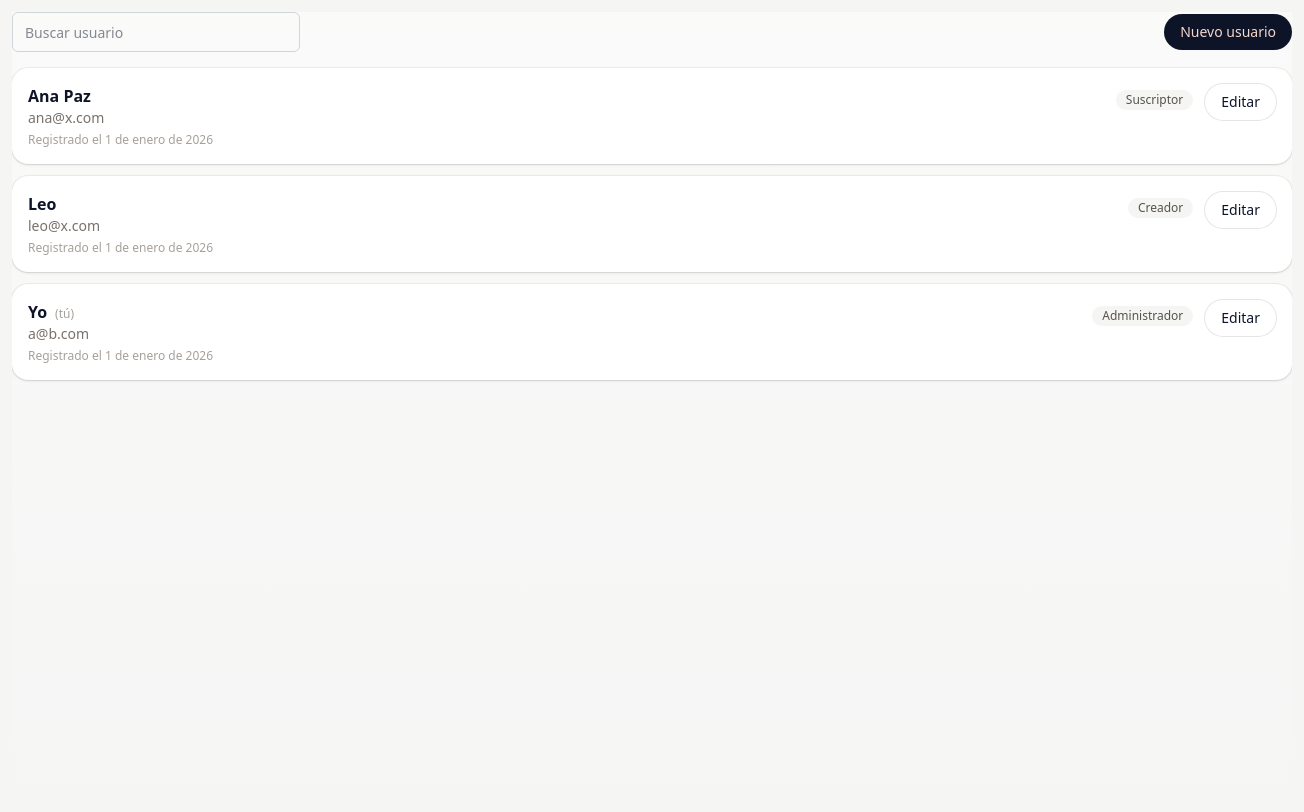
Test: UsersSection new user › opens the form from the button, and reloads the list once the user is created
Click the button "Nuevo usuario" at (1228, 32), box [1164,14,1292,50]
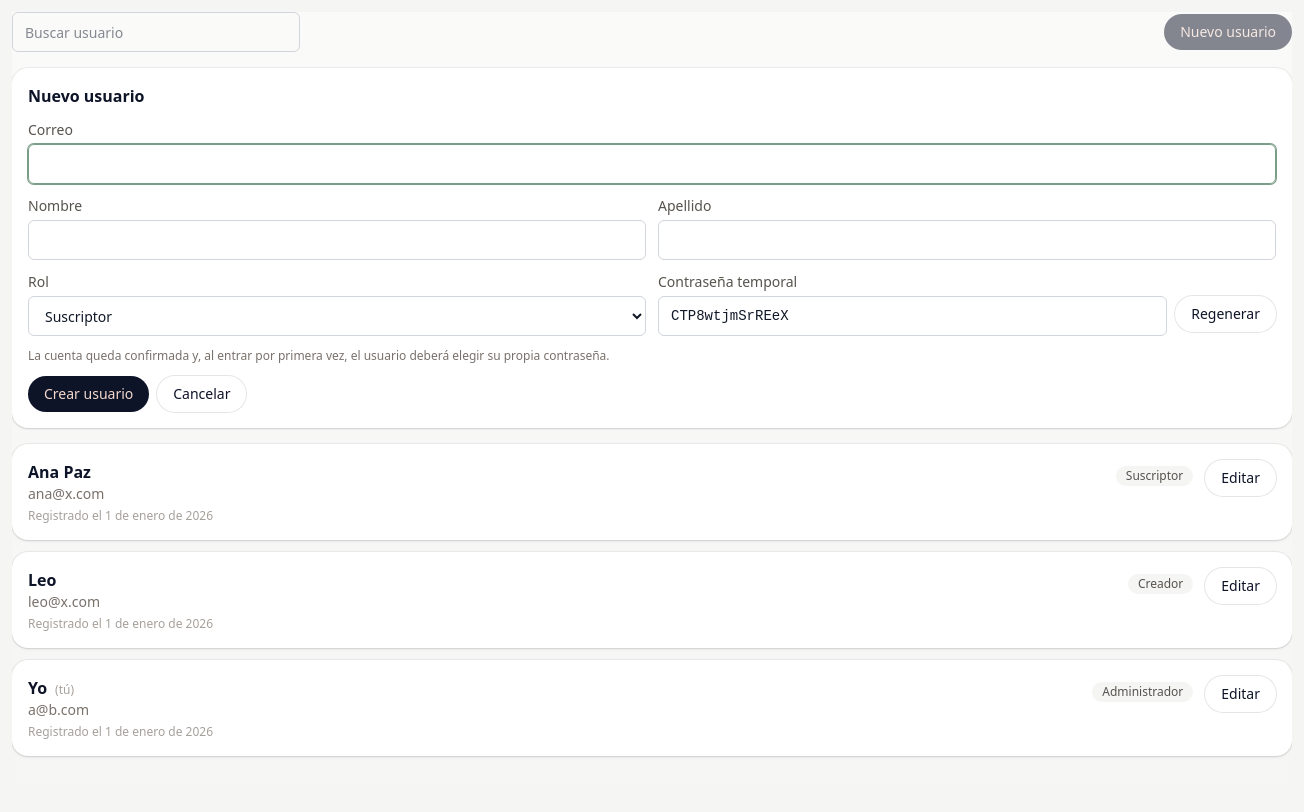
expect the form "Nuevo usuario" is shown: met, box [12,68,1292,428]
Type "nuevo@x.com" into the field labelled "Correo" at (652, 164), box [28,144,1276,184]
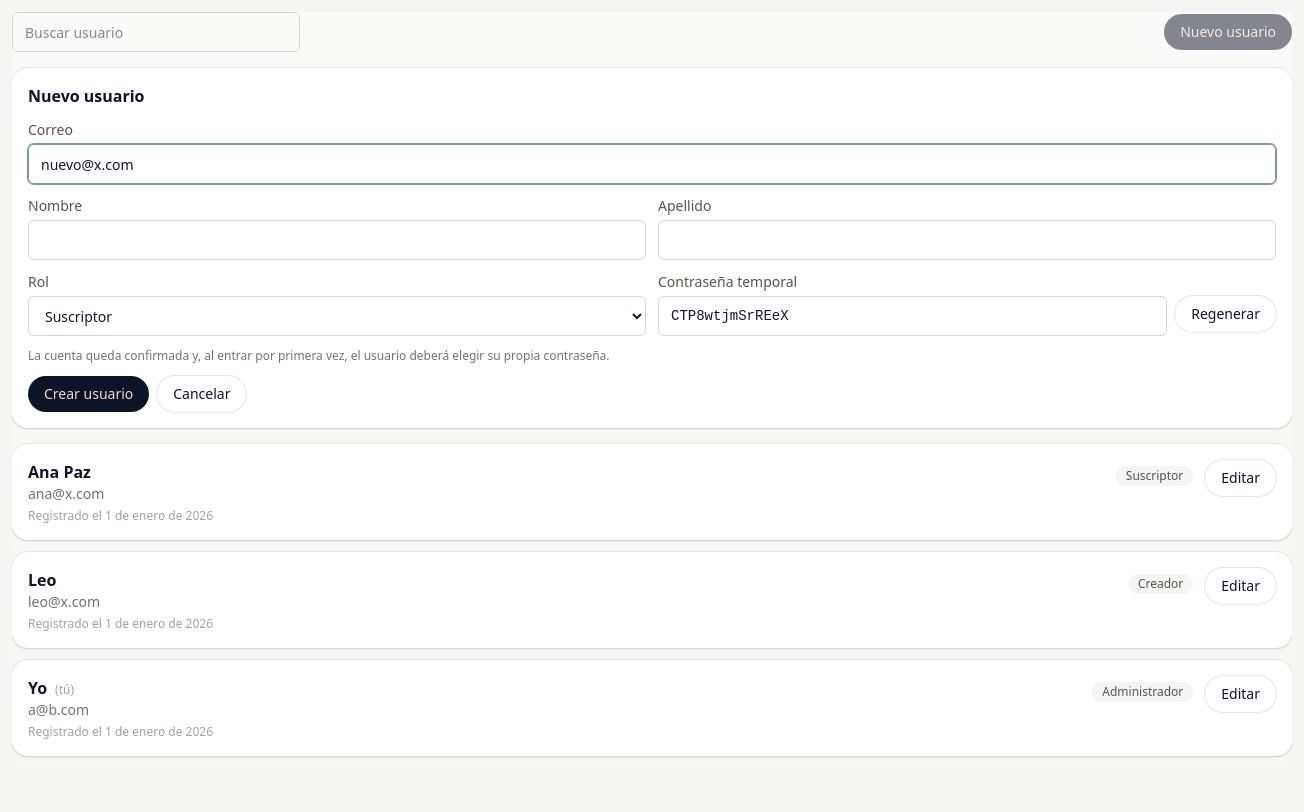
Click the button "Crear usuario" at (89, 394), box [28,376,149,412]
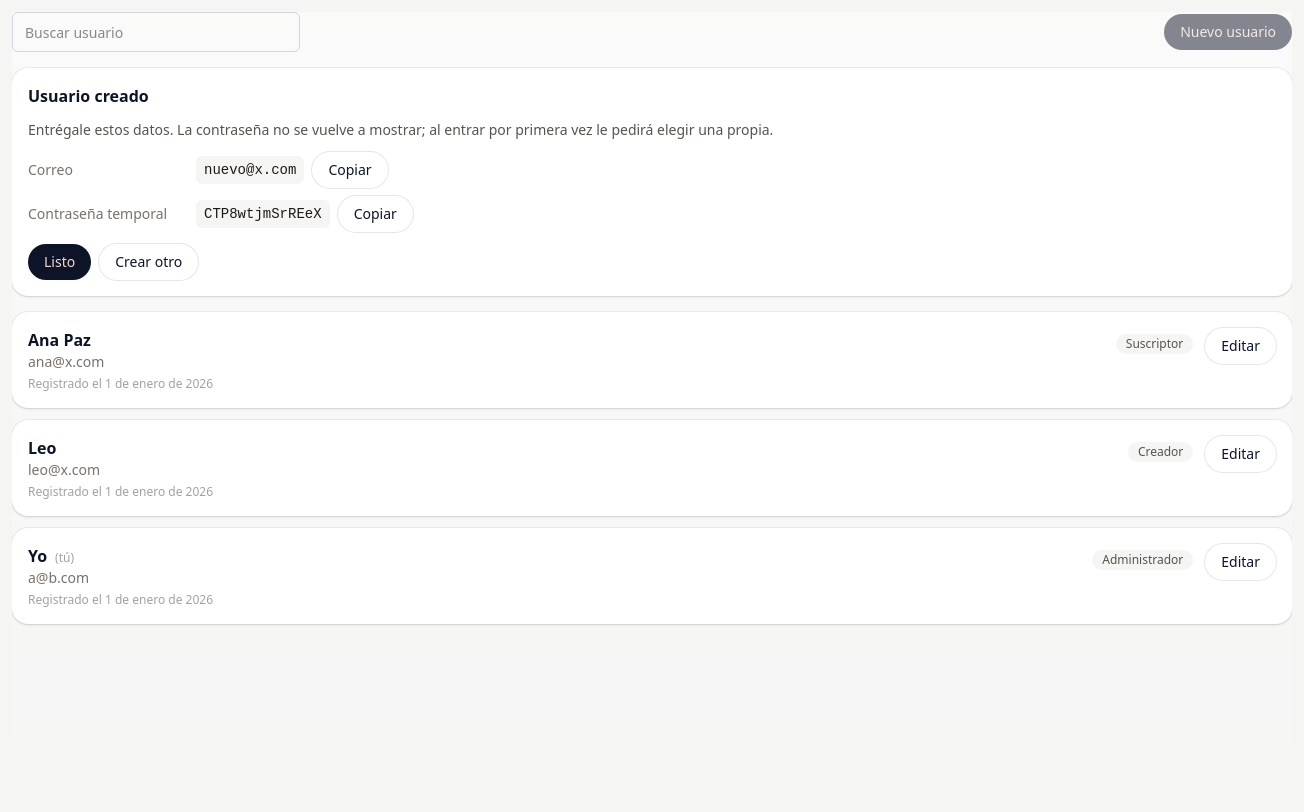
expect the element "Usuario creado" is shown: met, box [12,68,1292,296]
Click the button "Listo" at (60, 262), box [28,244,91,280]
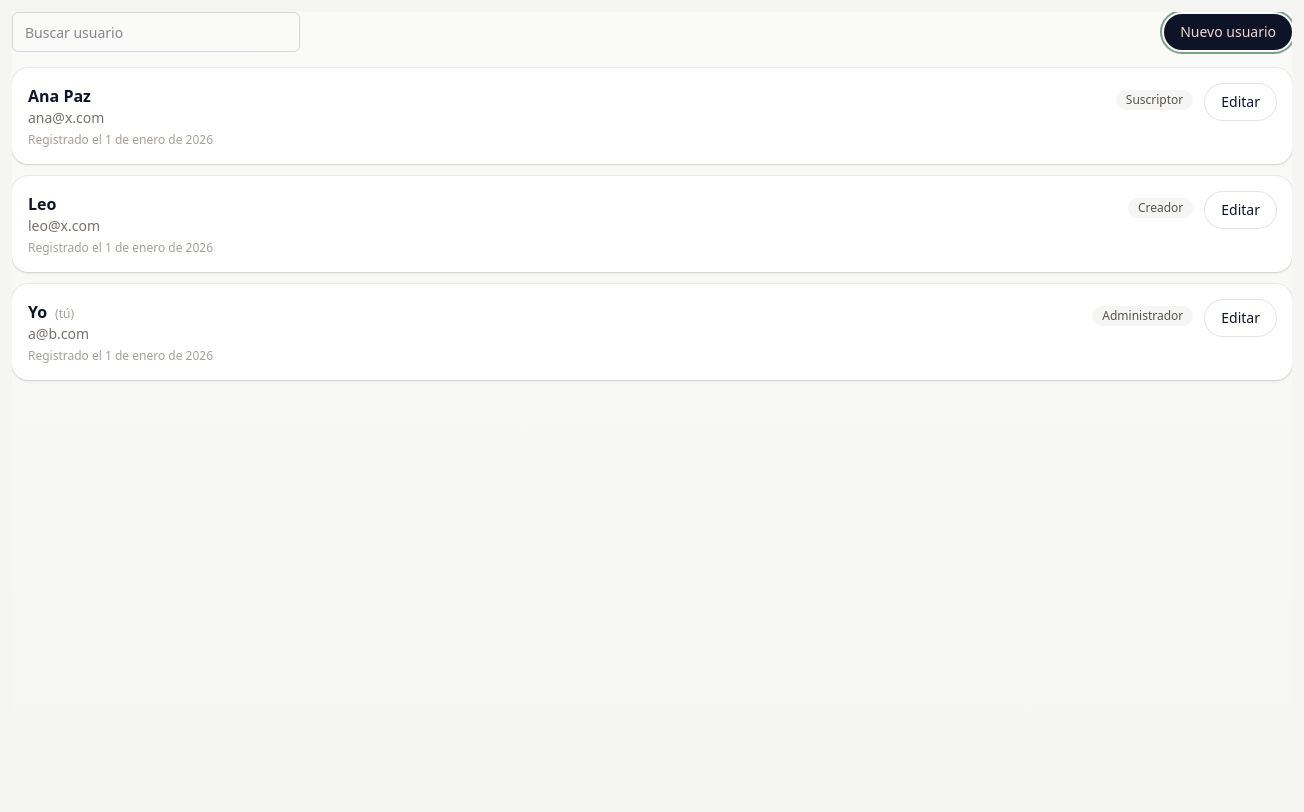
expect the heading "Usuario creado" is gone: met
